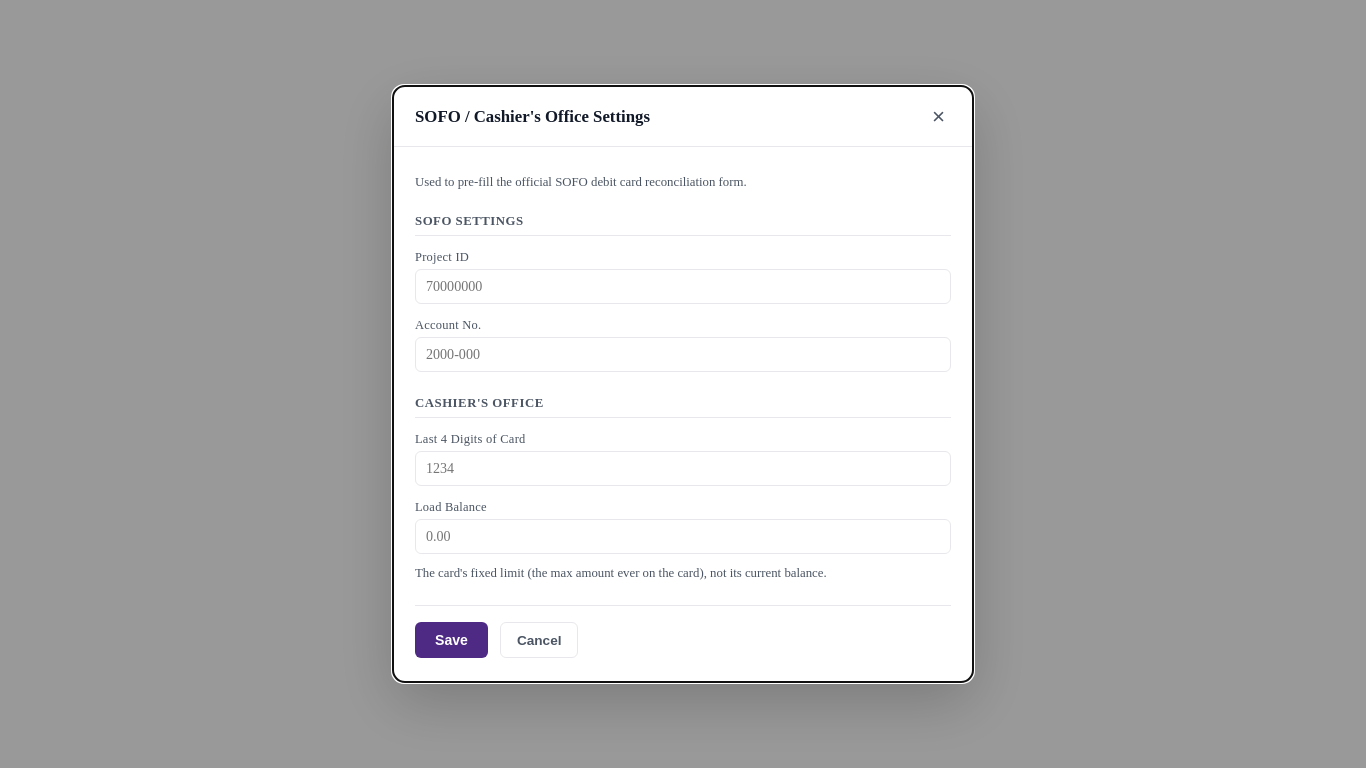
Scenario: DebitCardSettingsModal › rejects an Account No. that is not in the 20XX-XXX format
This screenshot has width=1366, height=768.
Type "99" into the field labelled "Account No." at (683,355), box left=415, top=337, right=951, bottom=372
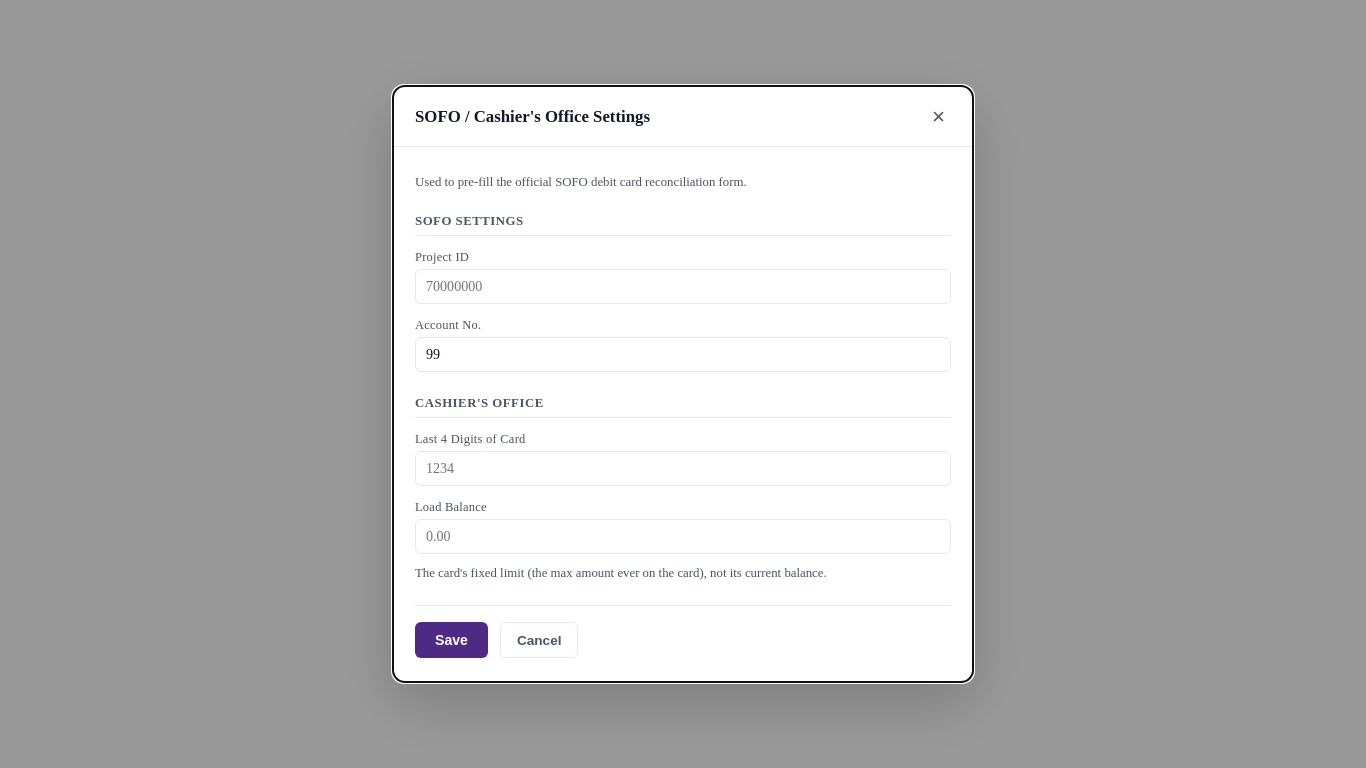
Click the button "Save" at (451,640), box left=415, top=622, right=488, bottom=658
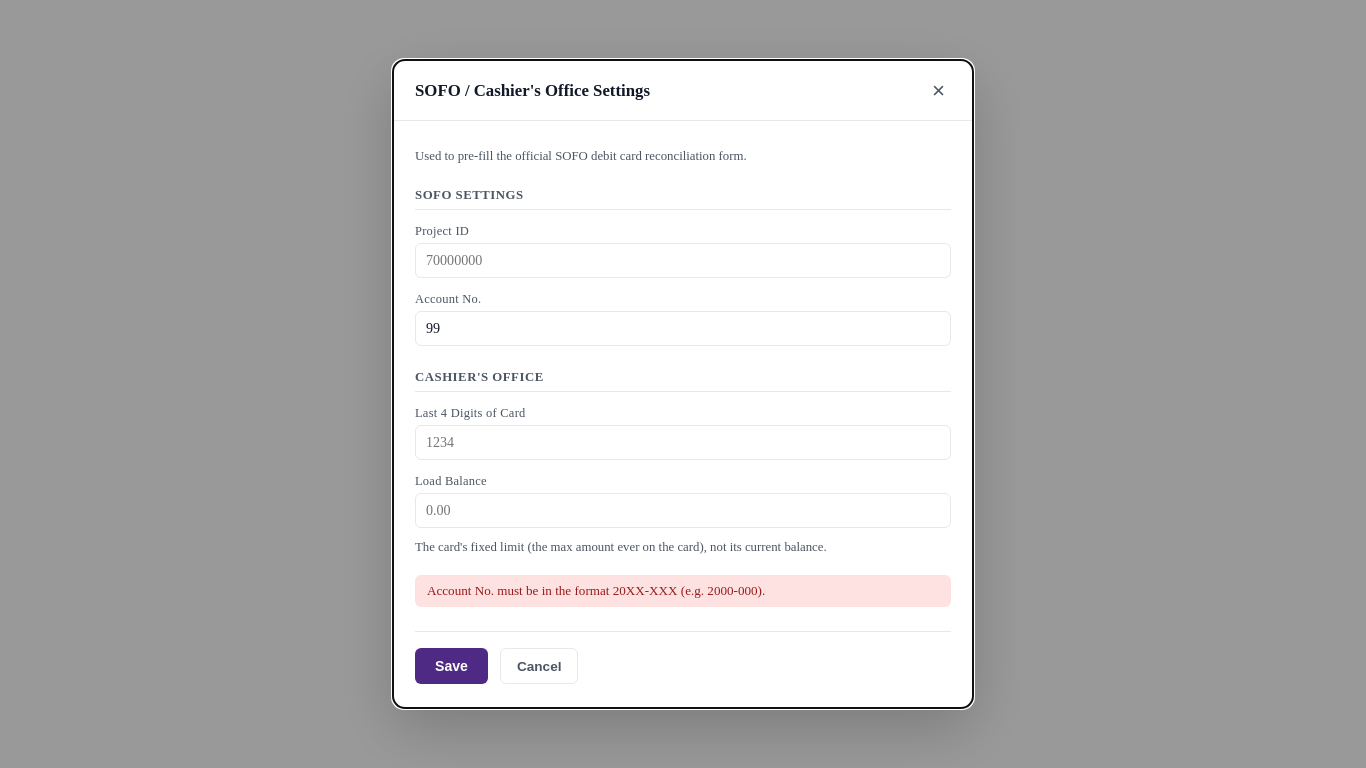
Expected: the text "Account No. must be in the format 20XX-XXX (e.g. 2000-000)." is shown, left=415, top=575, right=951, bottom=607
